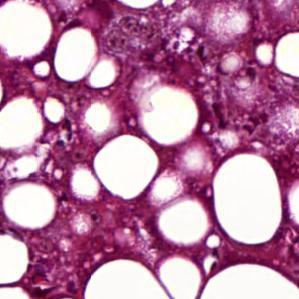steatosis: (211, 153, 289, 242), (95, 134, 162, 196)
